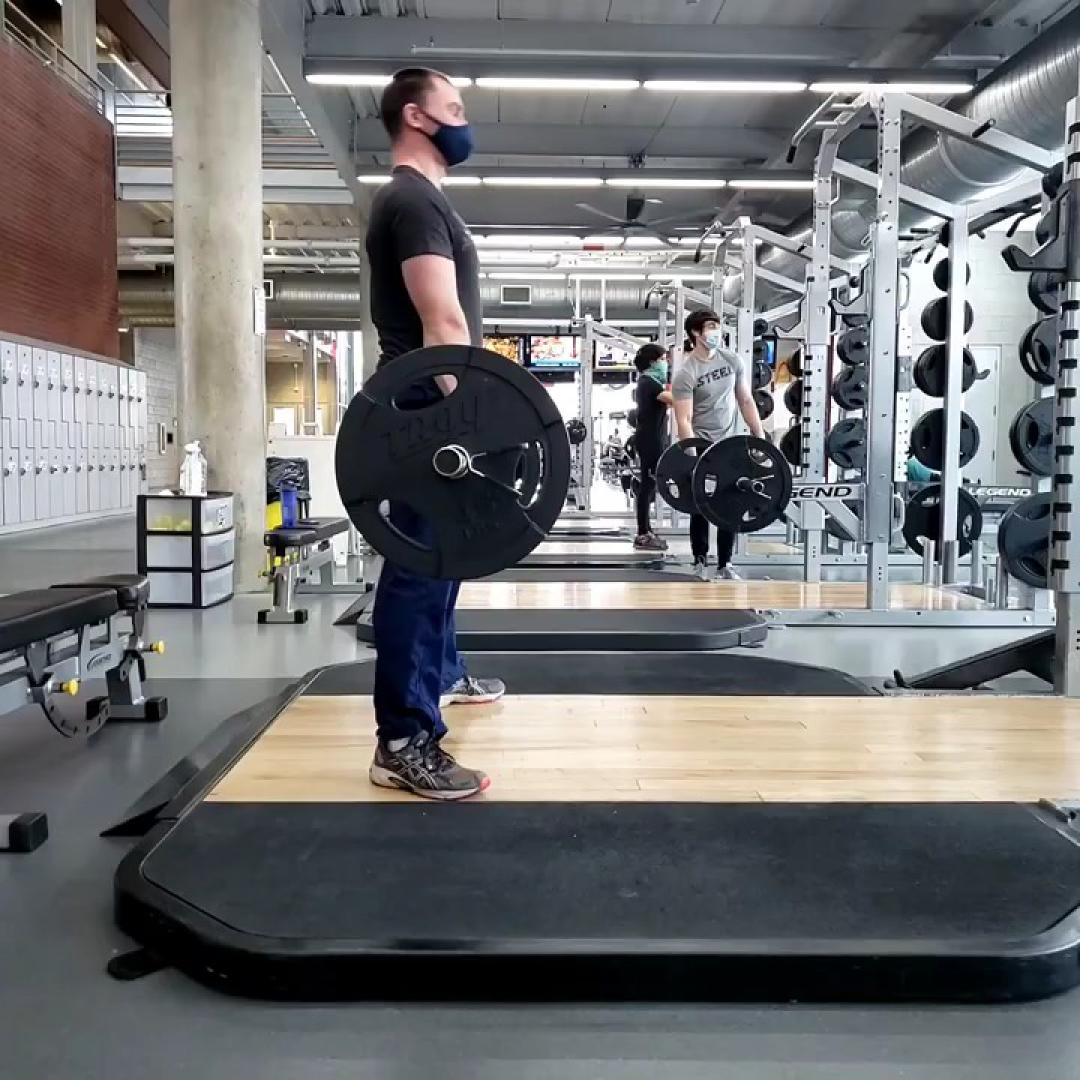Bar: (432, 447, 464, 477)
Barbell: (334, 344, 568, 582)
